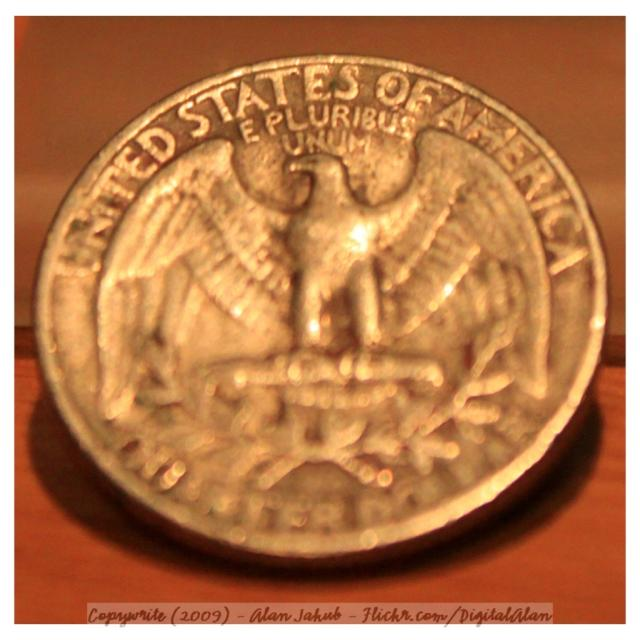Coin: (37, 58, 608, 566)
